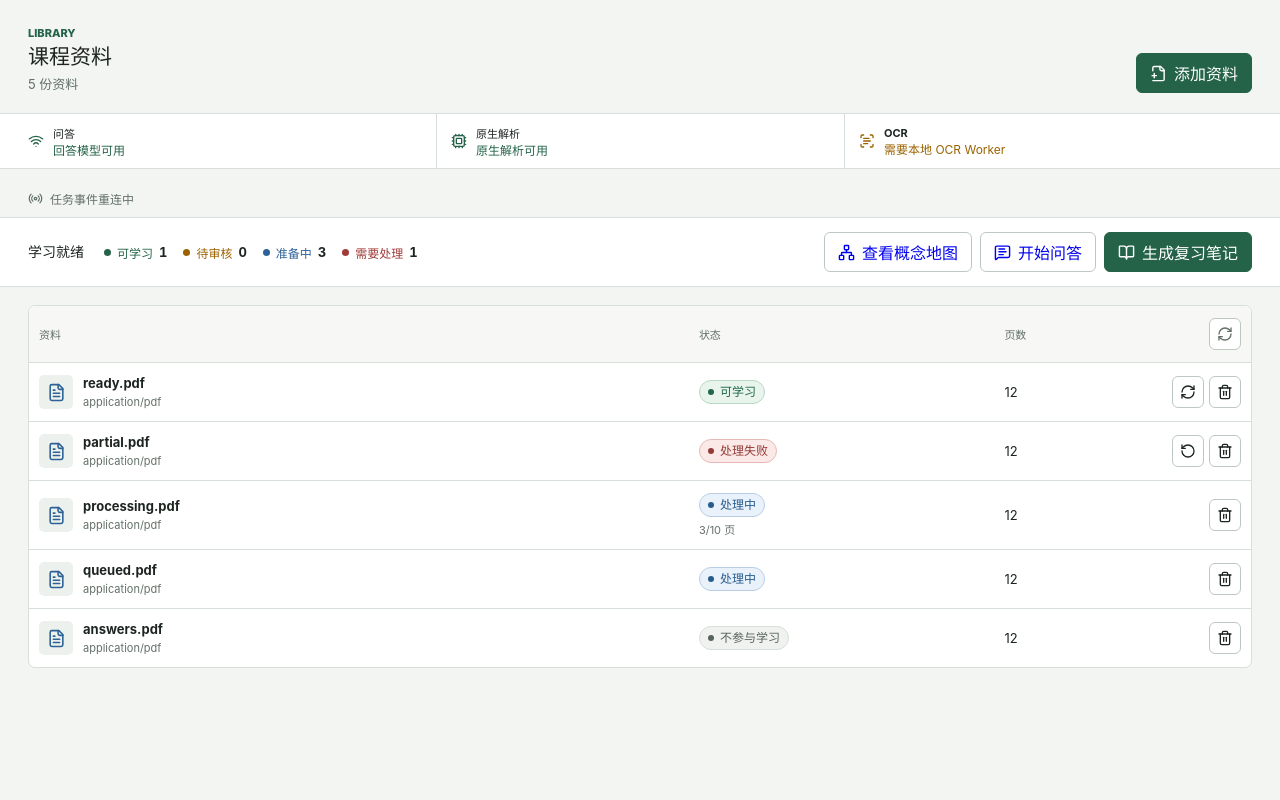
Test: LibraryPage › renders document states and supports retry and deletion cleanup
Expected: the text "ready.pdf" is shown, x1=83 y1=375 x2=145 y2=391
Expected: the text "可学习" in the row of "ready.pdf" is shown, x1=720 y1=384 x2=756 y2=399
Click the button named "重新解析": (1188, 392) x1=1172 y1=376 x2=1204 y2=408
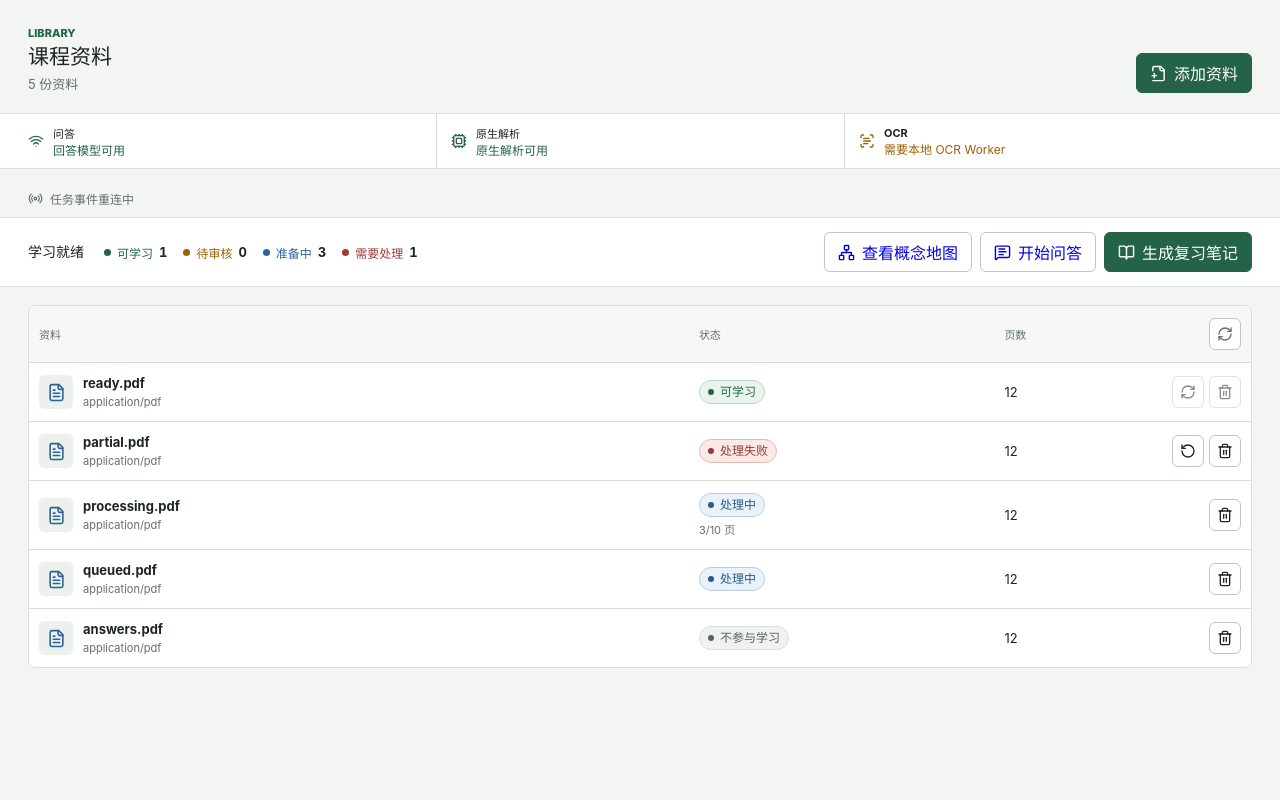
Click the button named "重试失败页": (1188, 451) x1=1172 y1=435 x2=1204 y2=467
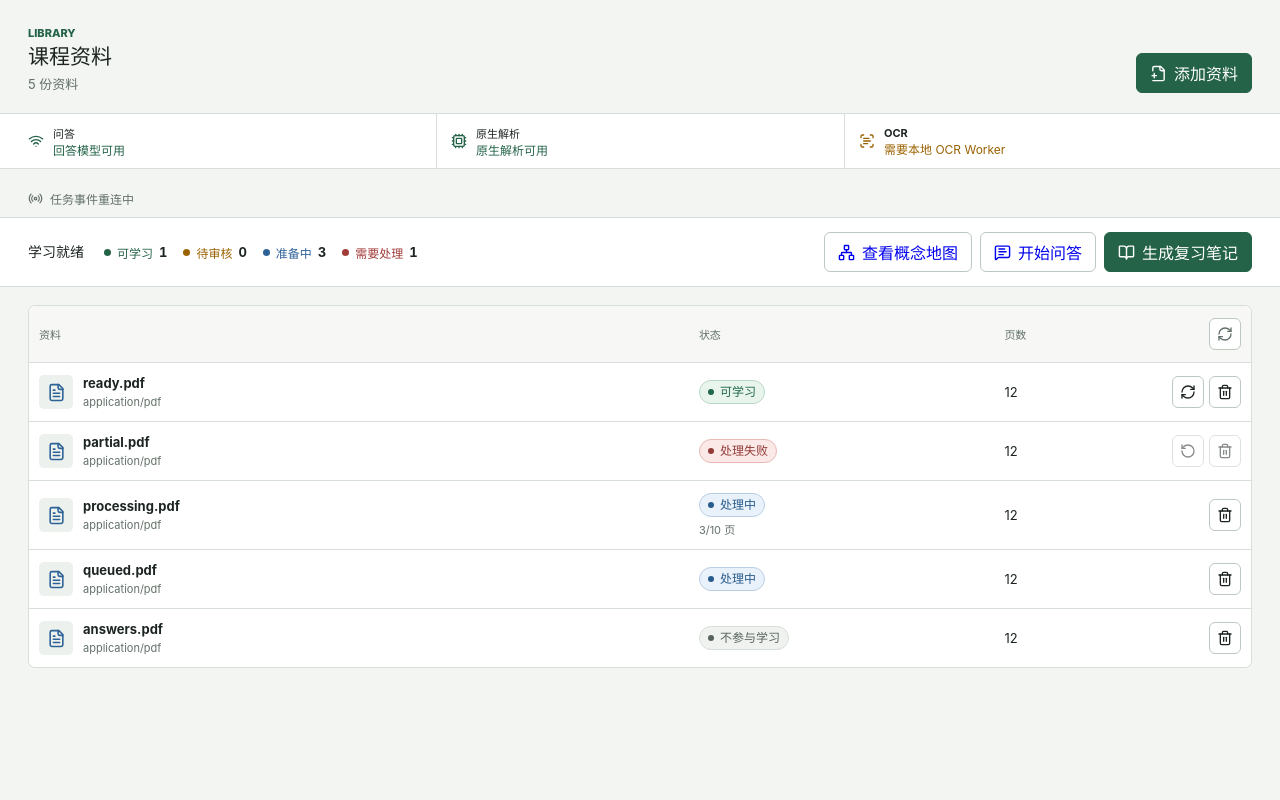
Click the button named "删除资料" in the row of "ready.pdf": (1225, 392) x1=1209 y1=376 x2=1241 y2=408
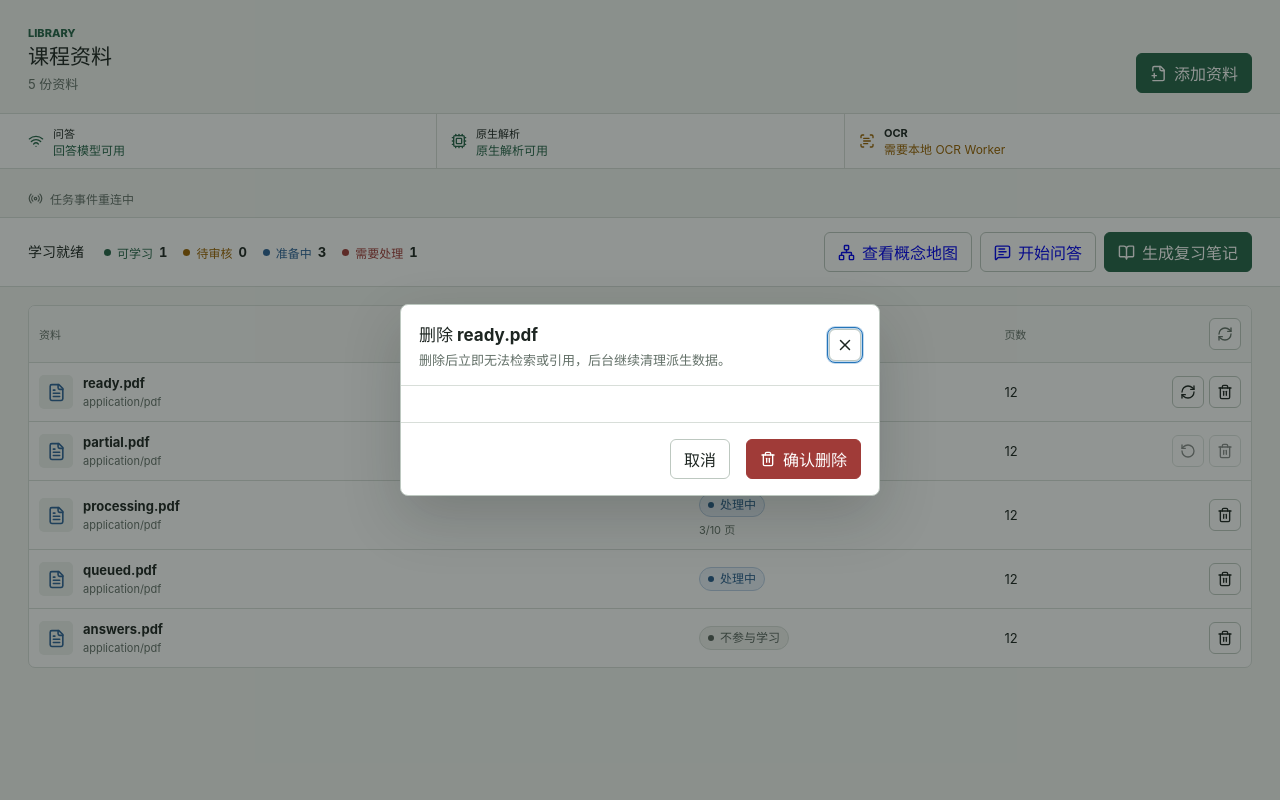
Now the text "删除后立即无法检索或引用，后台继续清理派生数据。" is shown, box x1=419 y1=350 x2=731 y2=369
Press Escape
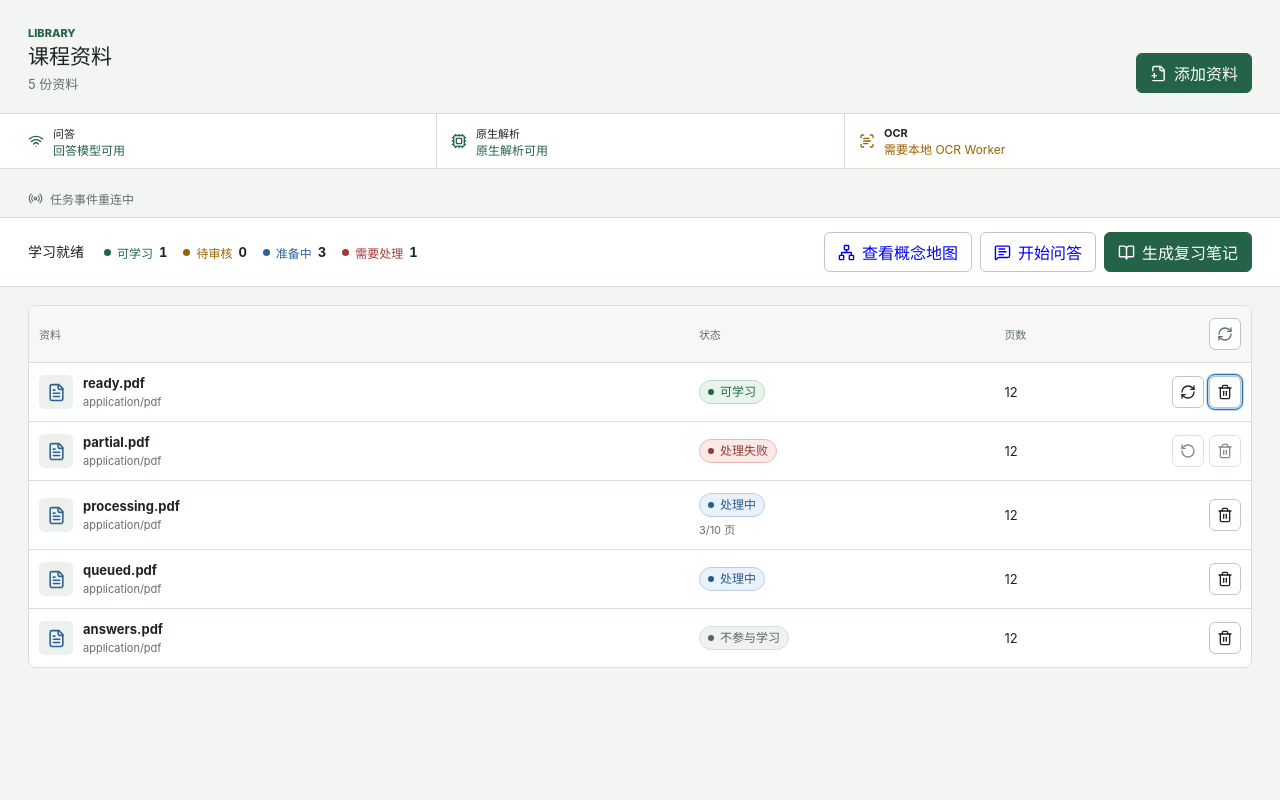
Now the heading "删除 ready.pdf" is gone
Click the button named "删除资料" in the row of "ready.pdf": (1225, 392) x1=1209 y1=376 x2=1241 y2=408
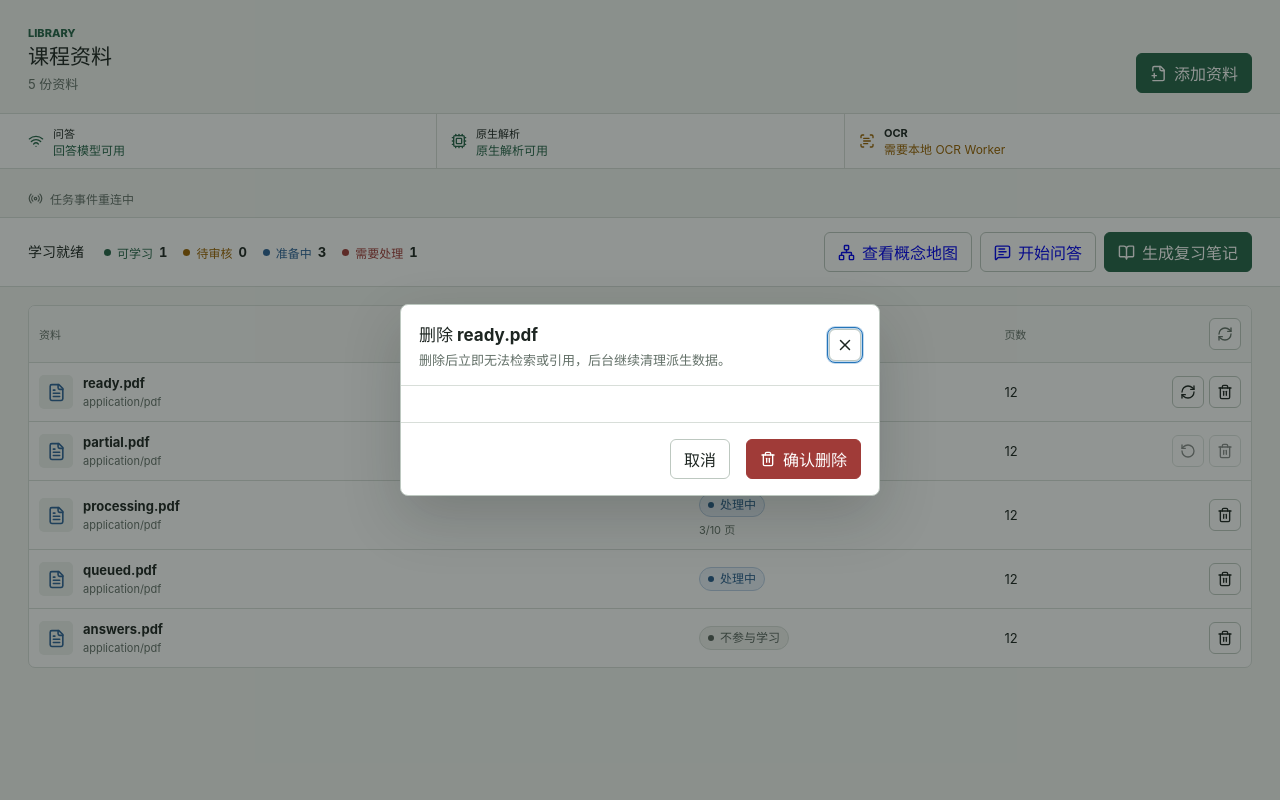
Click the button "确认删除": (804, 459) x1=746 y1=439 x2=861 y2=479
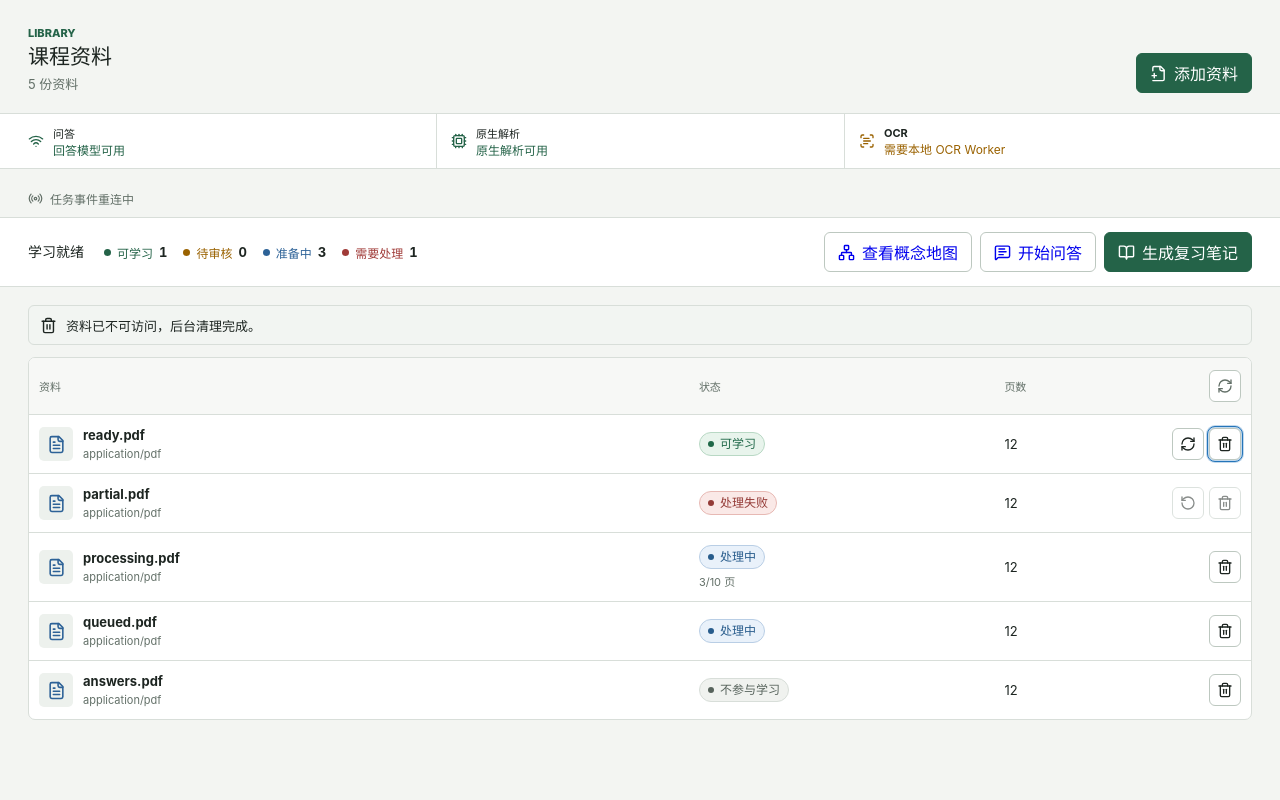
Now the text "资料已不可访问，后台清理完成。" is shown, box x1=66 y1=316 x2=261 y2=335
